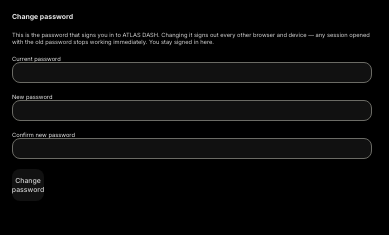
Test case: ChangePasswordPanel (F10) › surfaces the backend rejection message verbatim on a 400
Type "the-current-password" into the password field labelled "Current password" at (192, 72), box left=12, top=62, right=372, bottom=83
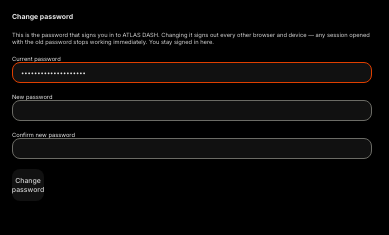
Type "a-brand-new-password" into the password field labelled "New password" at (192, 110), box left=12, top=100, right=372, bottom=121
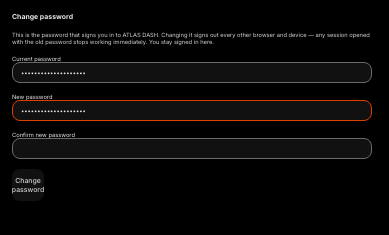
Type "a-brand-new-password" into the password field labelled "Confirm new password" at (192, 148), box left=12, top=138, right=372, bottom=159
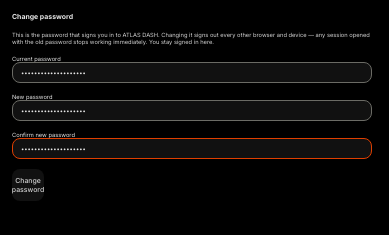
Click the button "Change password" at (28, 185), box left=12, top=169, right=44, bottom=201
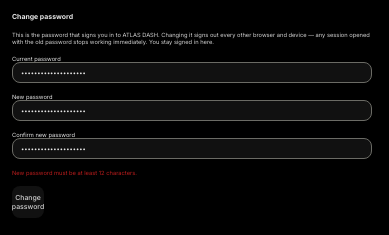
Result: the message shows "at least 12 characters" at left=12, top=169, right=137, bottom=176
